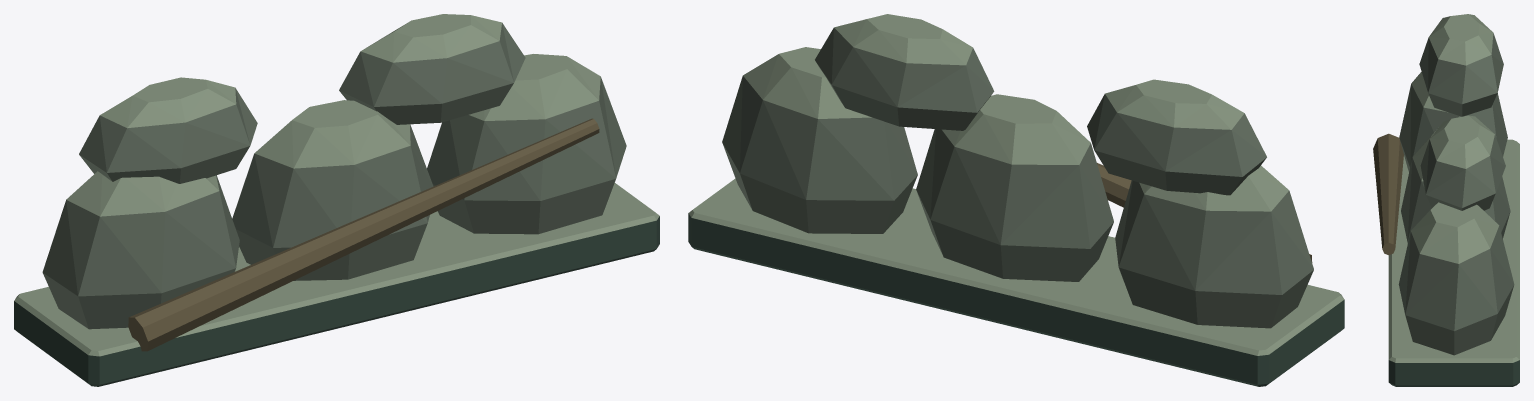
Rendered from wall-broken.glb.
The picture shows the model from 3 angles, left to right: view 1: azimuth 30°, elevation 25°; view 2: azimuth 150°, elevation 25°; view 3: azimuth 270°, elevation 25°; orthographic projection. The views are drawn at different scales.
Visible parts, largest first — view 1: wall-broken__body; view 2: wall-broken__body; view 3: wall-broken__body.
Boxes of the visible parts, <box> form: wall-broken__body: <box>14,14,659,386</box>; wall-broken__body: <box>688,14,1344,386</box>; wall-broken__body: <box>1373,14,1519,386</box>.
Size of the model in its own units: 2.01 by 0.79 by 0.56.
